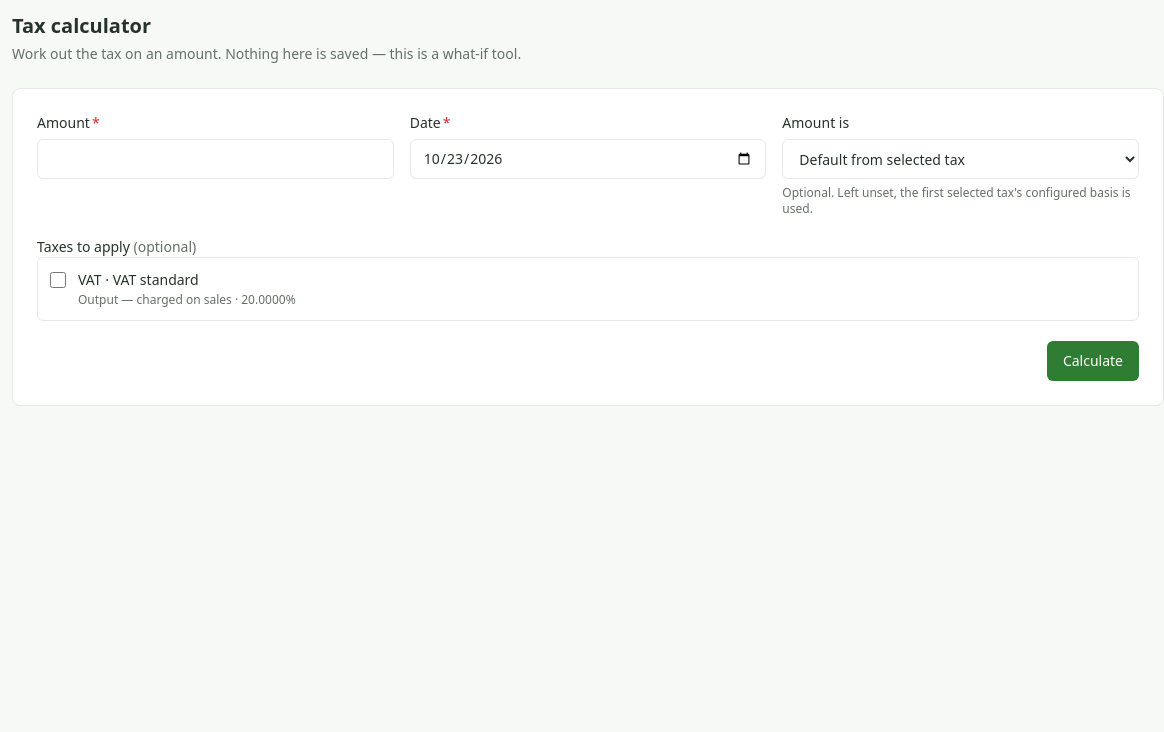
Test: TaxCalculatorView › posts the amount, date and selected taxes and renders the result
In the field labelled "Amount": (215, 159) [37,139,394,179], type "100"
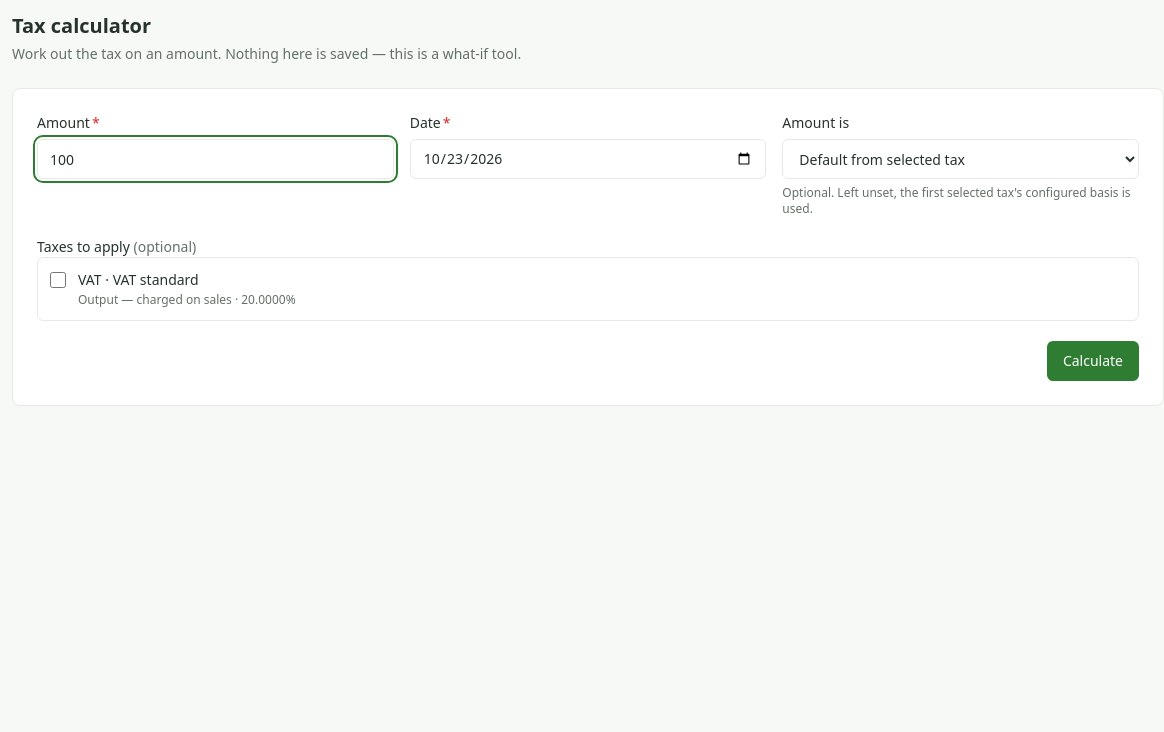
Click the checkbox: (58, 280) [50,272,66,288]
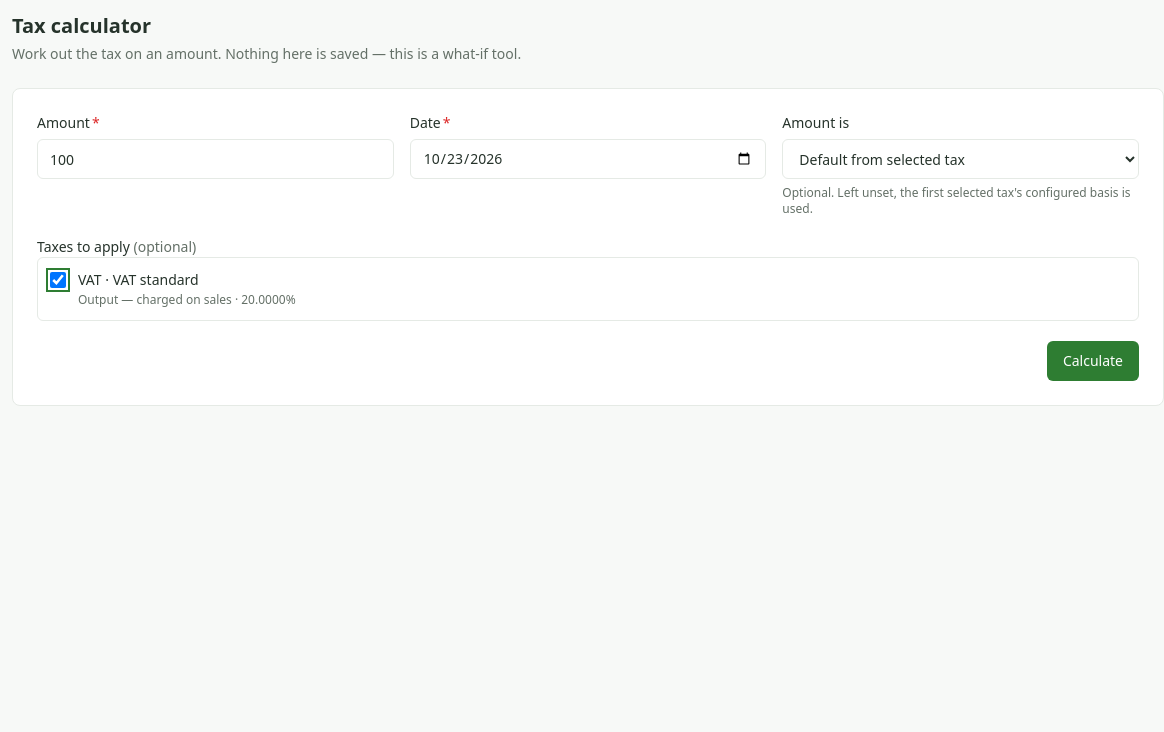
Submit the form named "Calculate", box [12,88,1163,406]
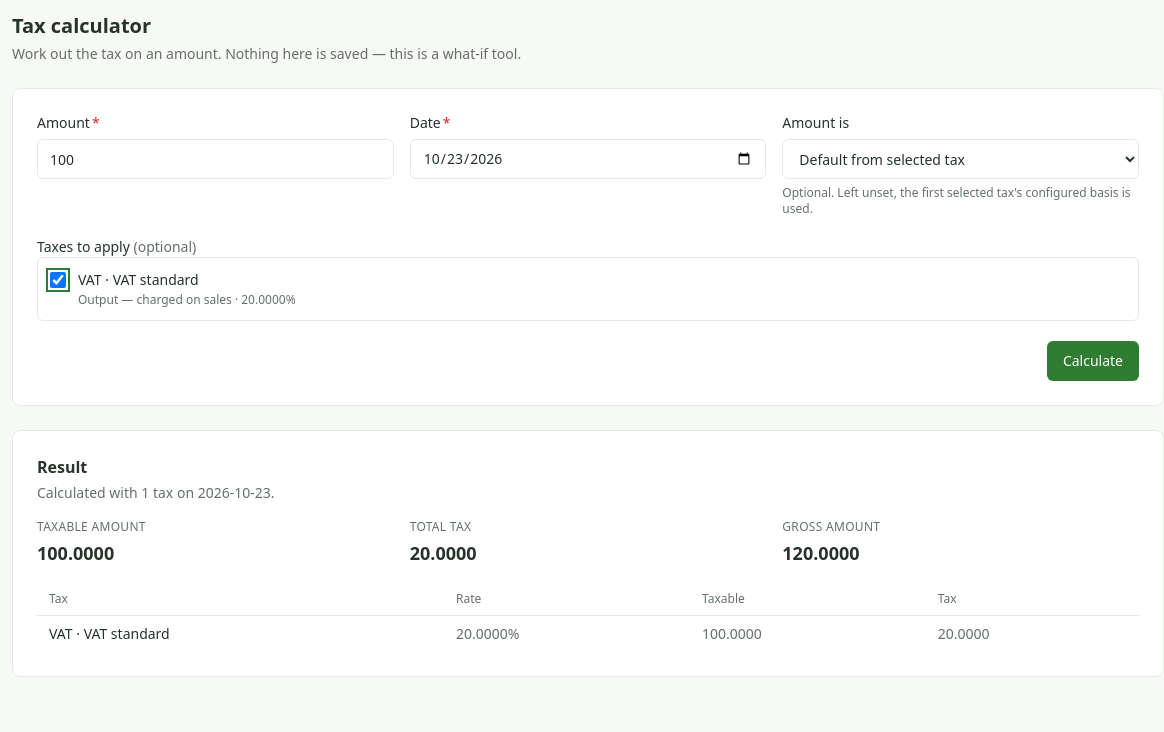
Expected: the text "120.0000" is shown, [782,541,860,565]
